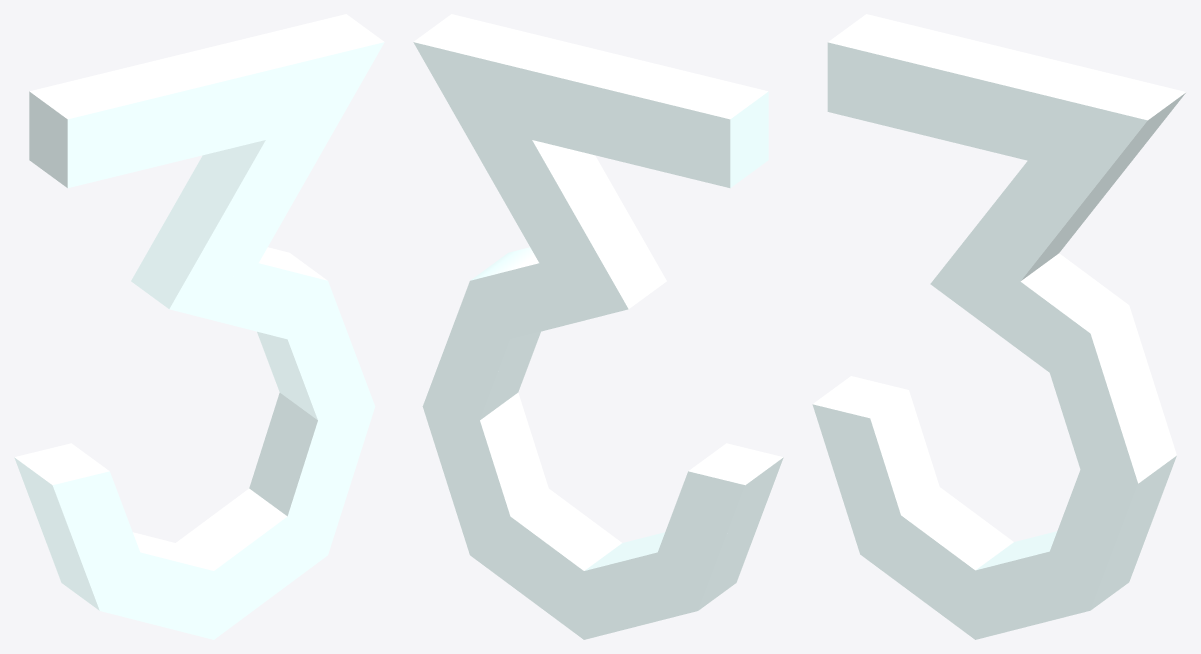
The picture shows the model from 3 angles, left to right: view 1: azimuth 30°, elevation 25°; view 2: azimuth 150°, elevation 25°; view 3: azimuth 330°, elevation 25°; orthographic projection.
Visible parts, largest first — view 1: wall_2_11_11_83_89.001; view 2: wall_2_11_11_83_89.001; view 3: wall_2_11_11_83_89.001.
Boxes of the visible parts, x1,y1,x2,y2 form: wall_2_11_11_83_89.001: (14, 14, 384, 639); wall_2_11_11_83_89.001: (413, 14, 783, 639); wall_2_11_11_83_89.001: (812, 14, 1186, 639).
Bounding box in the file's own units: 3.52 × 5.63 × 0.7034.
